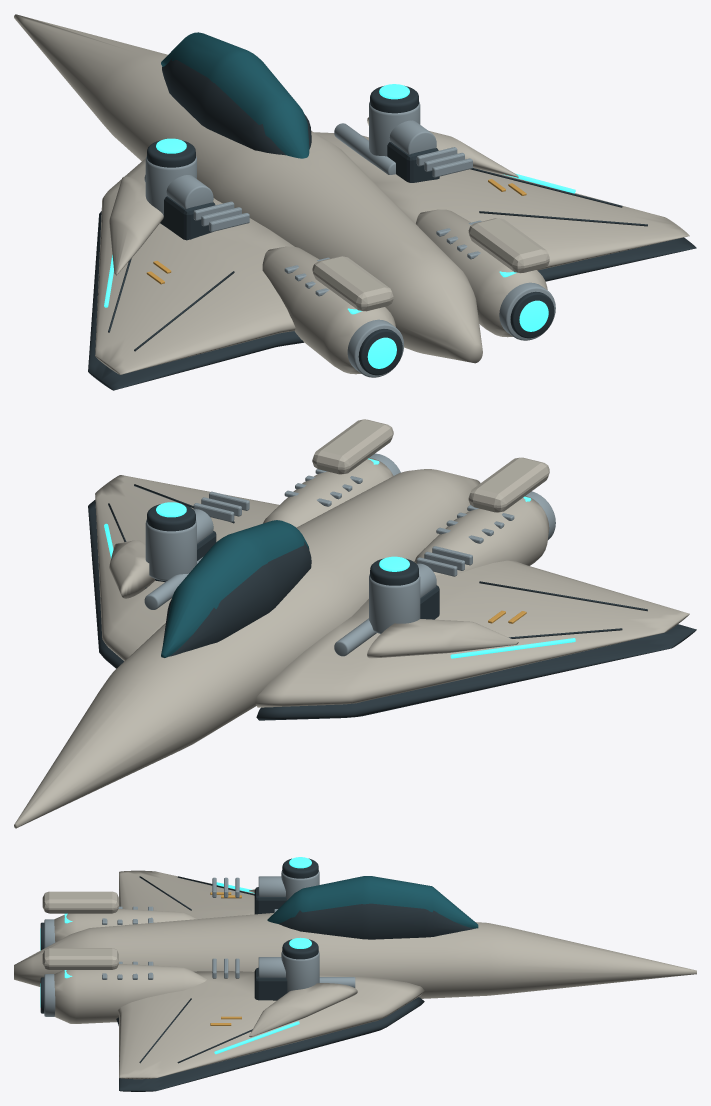
The model's file is common-0.glb.
3 views of the same model, one above another, from view 1: azimuth 30°, elevation 25°; view 2: azimuth 150°, elevation 25°; view 3: azimuth 270°, elevation 25° (orthographic). The views are drawn at different scales.
Visible parts, largest first — view 1: SM_Hull, SM_Wing_Left, SM_Wing_Right, SM_Engine_Left, SM_Engine_Right, SM_Stage03, SM_Stage04, SM_Stage01, SM_Stage02, SM_Weapon_Right; view 2: SM_Hull, SM_Wing_Left, SM_Wing_Right, SM_Stage03, SM_Stage04, SM_Engine_Left, SM_Stage02, SM_Engine_Right, SM_Stage01, SM_Weapon_Left, SM_Weapon_Right; view 3: SM_Hull, SM_Wing_Right, SM_Engine_Right, SM_Wing_Left, SM_Stage03, SM_Stage04, SM_Stage02, SM_Engine_Left, SM_Stage01.
Part boxes in pixels (x1,y1,x2,y2): SM_Hull: (14, 14, 482, 363); SM_Wing_Left: (88, 158, 303, 390); SM_Wing_Right: (314, 132, 696, 281); SM_Engine_Left: (262, 246, 404, 377); SM_Engine_Right: (416, 209, 555, 340); SM_Stage03: (193, 147, 549, 311); SM_Stage04: (145, 84, 420, 215); SM_Stage01: (160, 120, 439, 240); SM_Stage02: (109, 117, 518, 275); SM_Weapon_Right: (334, 123, 395, 174); SM_Hull: (14, 469, 480, 828); SM_Wing_Left: (255, 560, 696, 720); SM_Wing_Right: (88, 475, 279, 668); SM_Stage03: (193, 419, 549, 576); SM_Stage04: (145, 502, 420, 633); SM_Engine_Left: (415, 491, 555, 575); SM_Stage02: (109, 540, 518, 658); SM_Engine_Right: (263, 453, 400, 527); SM_Stage01: (155, 509, 439, 619); SM_Weapon_Left: (334, 618, 376, 656); SM_Weapon_Right: (144, 557, 202, 609); SM_Hull: (14, 876, 696, 998); SM_Wing_Right: (116, 971, 424, 1091); SM_Engine_Right: (40, 961, 206, 1023); SM_Wing_Left: (119, 870, 254, 918); SM_Stage03: (42, 877, 239, 978); SM_Stage04: (281, 857, 319, 992); SM_Stage02: (249, 889, 357, 1037); SM_Engine_Left: (40, 906, 197, 950); SM_Stage01: (254, 876, 287, 1000).
Size of the model in its own units: 5.23 by 1.39 by 7.15.
